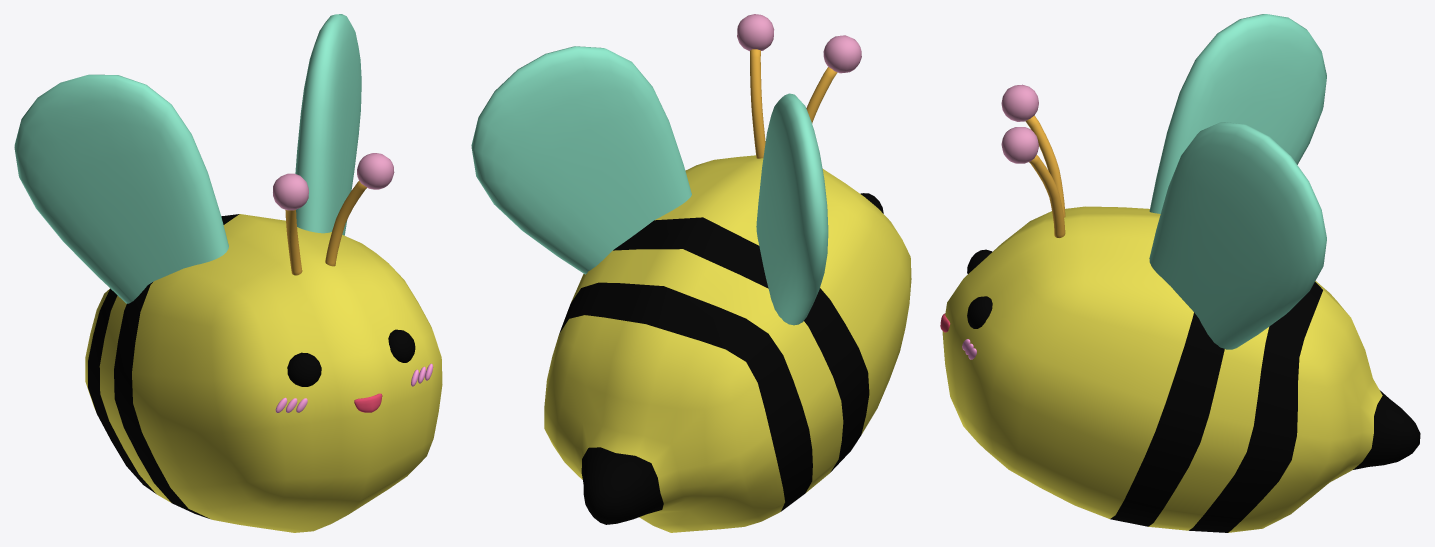
The model's file is bee.glb.
3 renders of one model, left to right at view 1: azimuth 30°, elevation 25°; view 2: azimuth 150°, elevation 25°; view 3: azimuth 270°, elevation 25°, orthographic. The views are drawn at different scales.
Visible parts, largest first — view 1: Body, Wings, Sensor, Eyes; view 2: Body, Wings, Sensor; view 3: Body, Wings, Sensor, Eyes.
Boxes of the visible parts, <box> form: Body: <box>85,214,442,532</box>; Wings: <box>14,14,361,303</box>; Sensor: <box>273,153,394,275</box>; Eyes: <box>287,329,415,386</box>; Body: <box>544,155,911,532</box>; Wings: <box>471,46,828,325</box>; Sensor: <box>737,14,861,158</box>; Body: <box>942,206,1420,532</box>; Wings: <box>1149,14,1326,349</box>; Sensor: <box>1001,84,1065,237</box>; Eyes: <box>967,249,992,328</box>.
Size of the model in its own units: 1.44 by 1.79 by 1.73.
